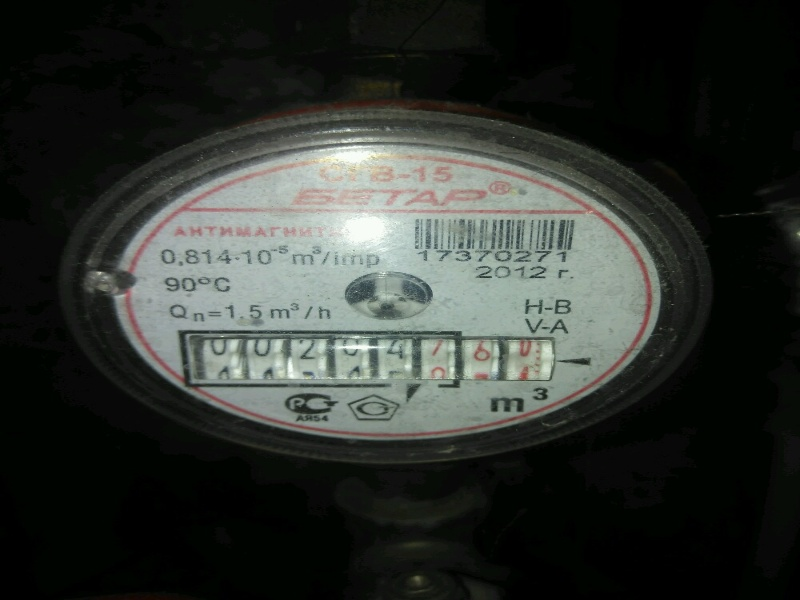dial: (173, 336, 557, 378)
